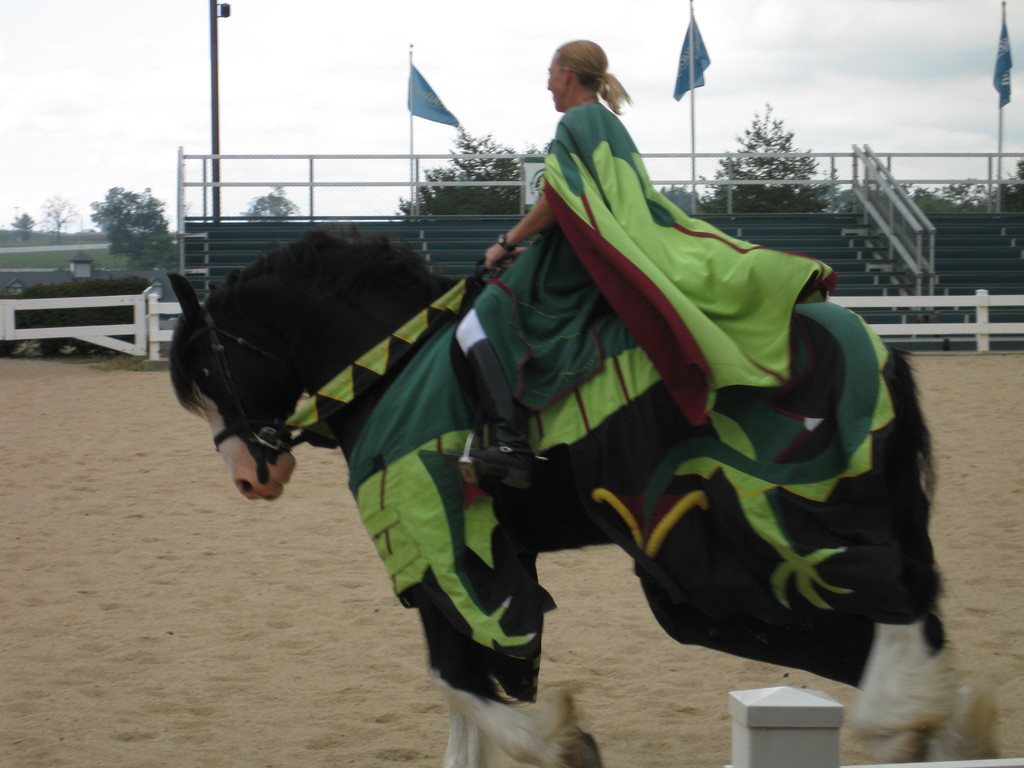Person: (447, 38, 637, 488)
